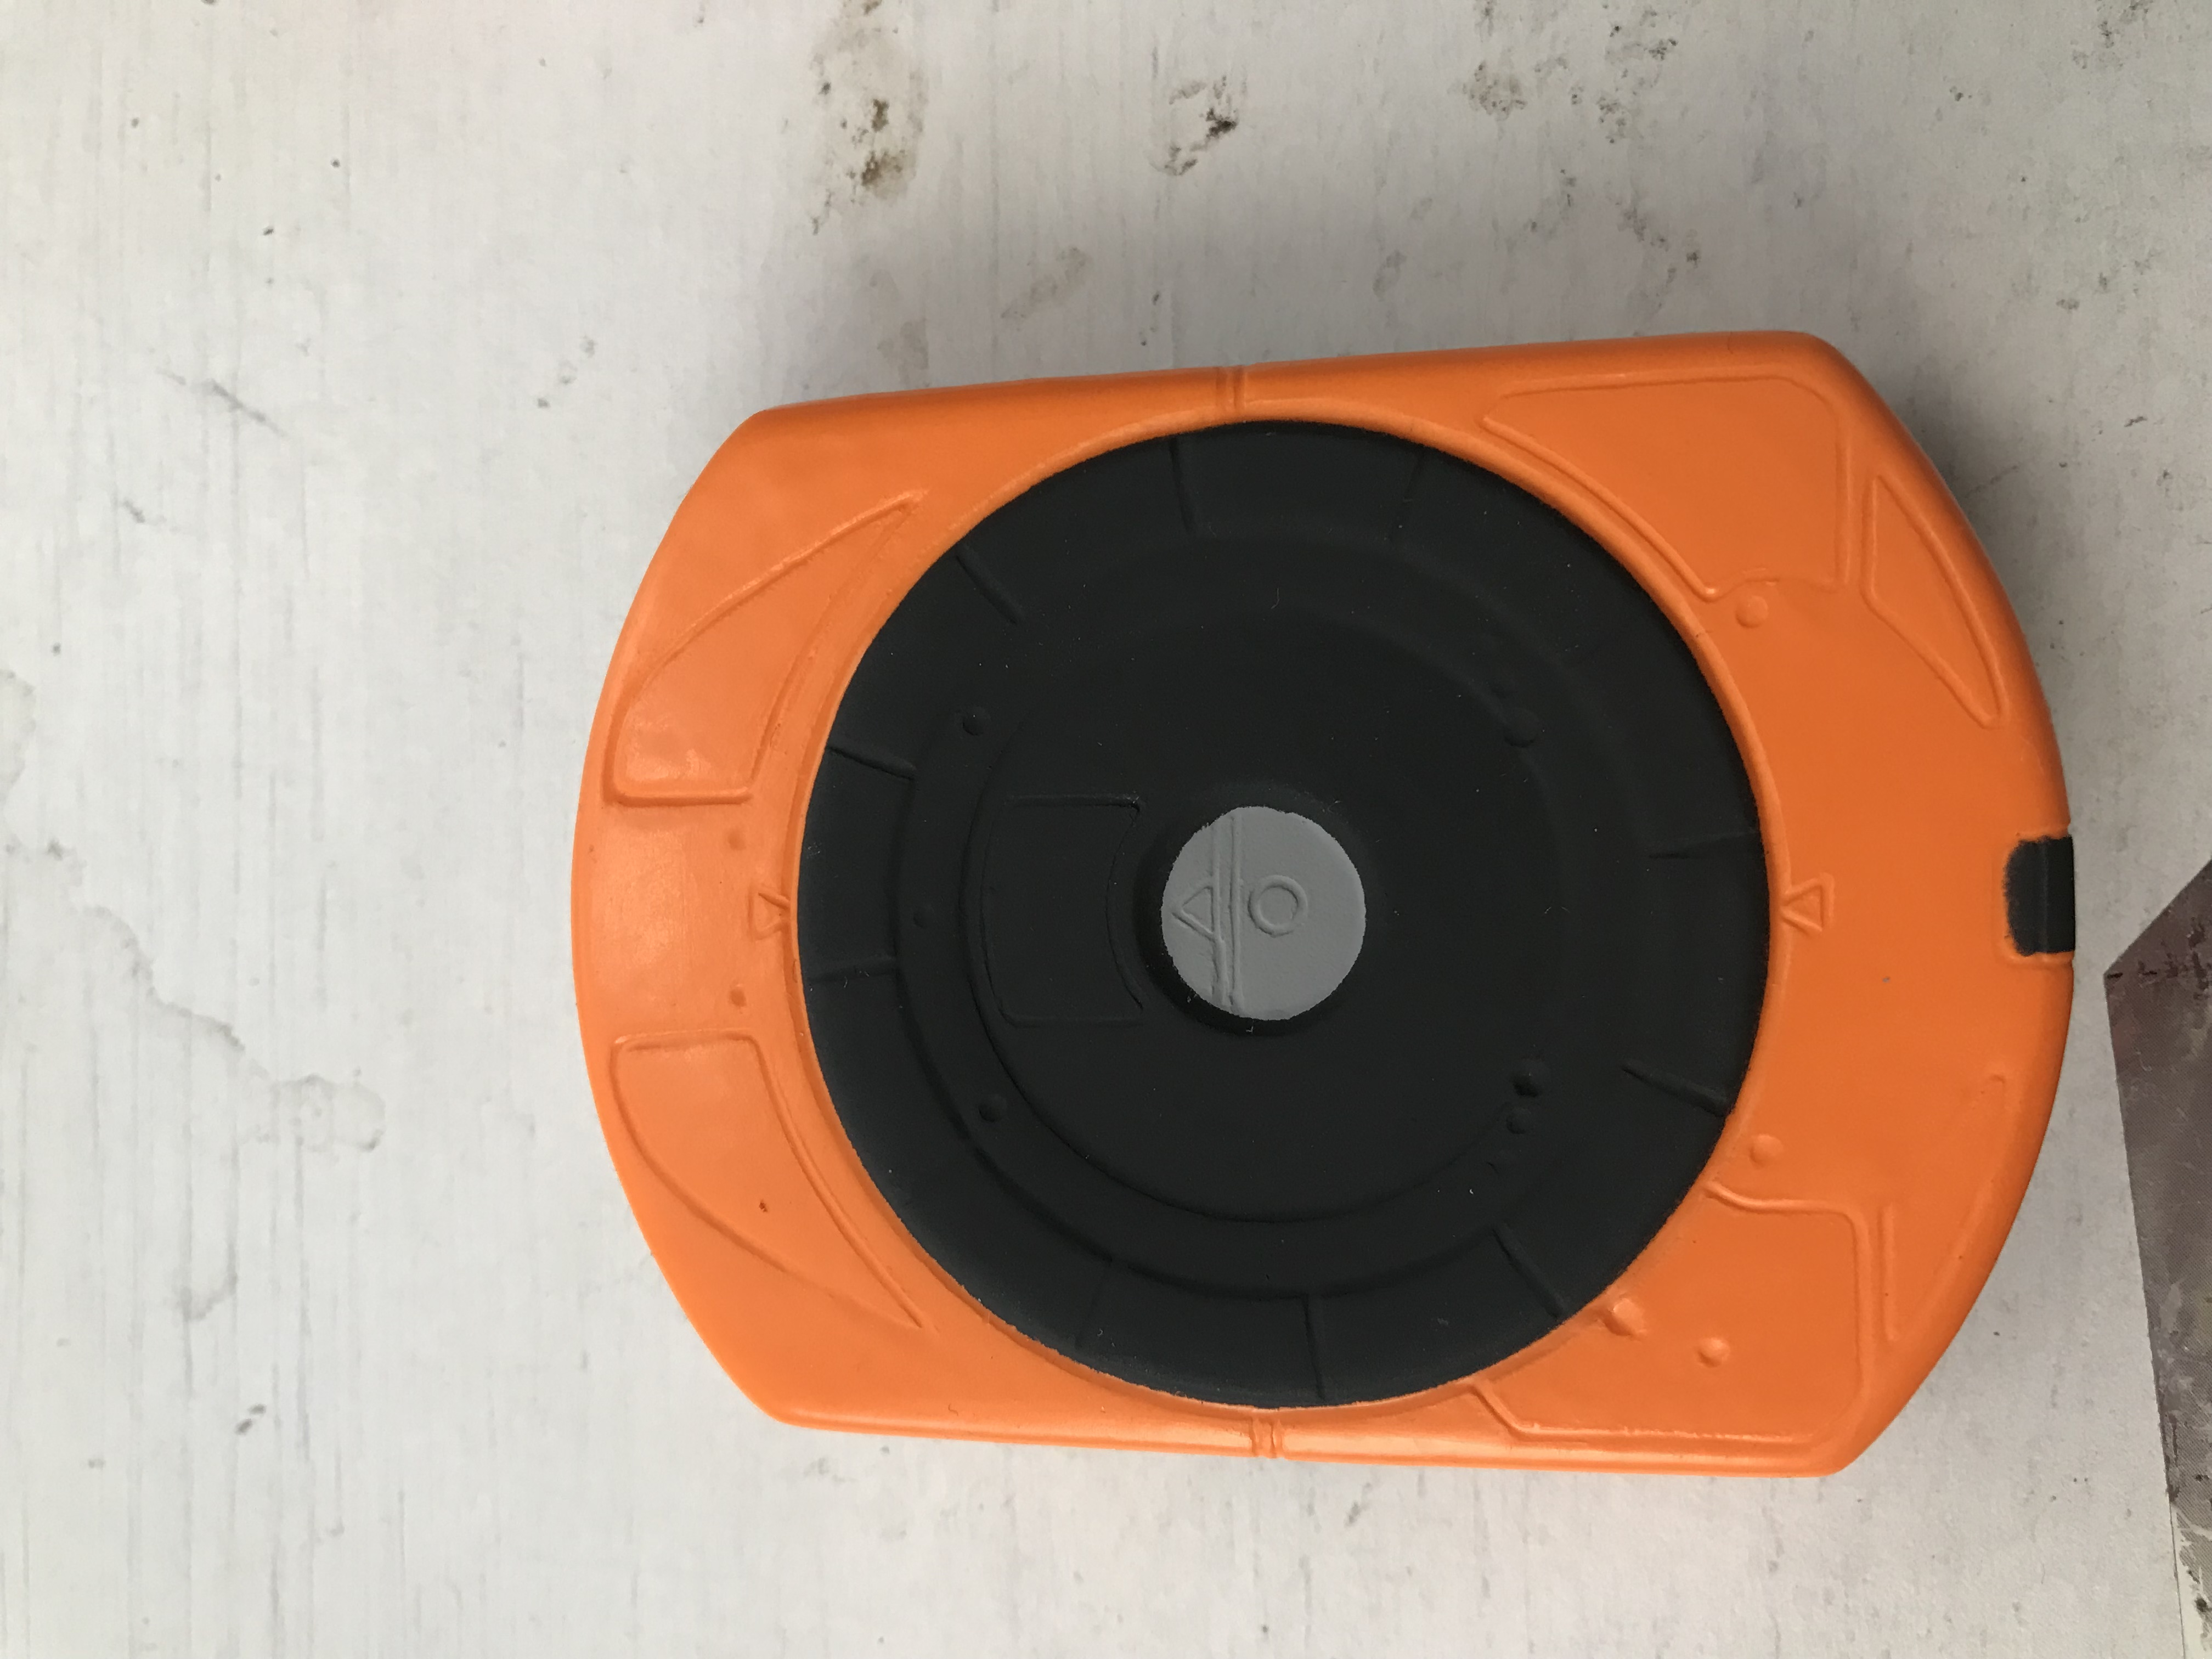amazon_bot: (533, 342, 2107, 1527)
